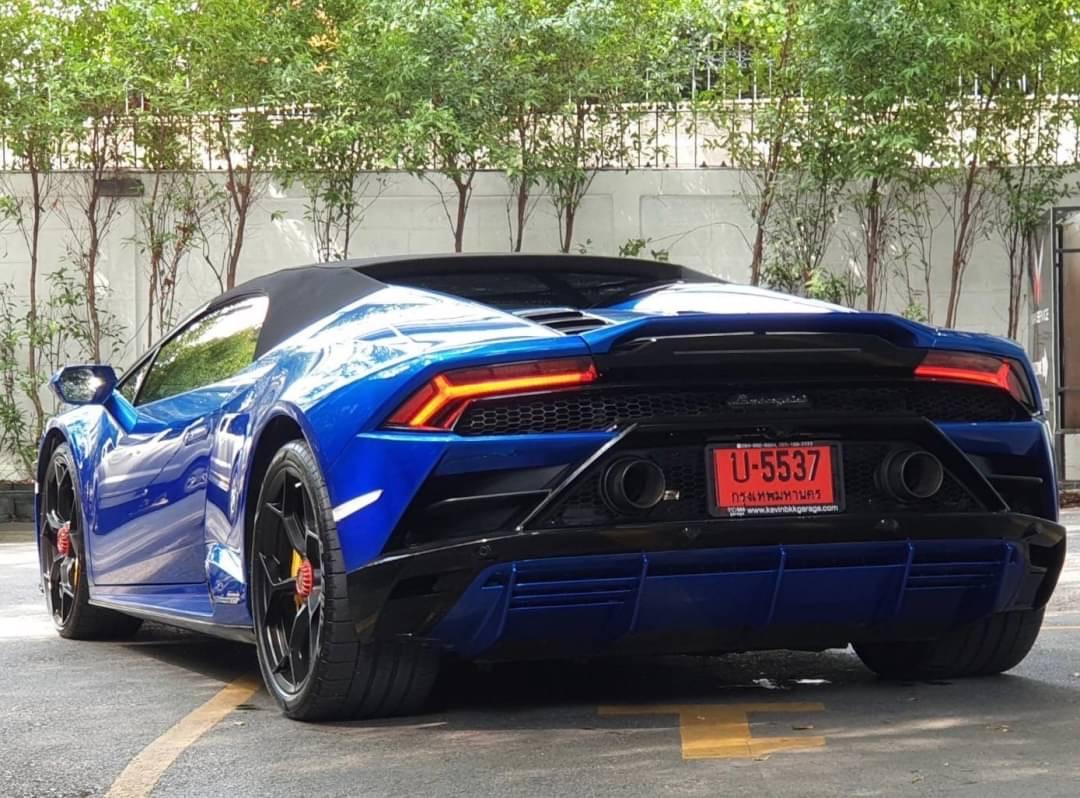license-plate: (704, 436, 848, 517)
